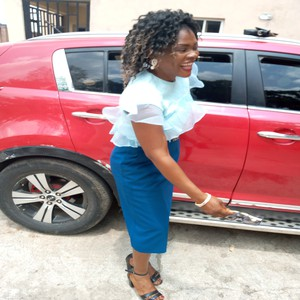Fulokoja_female_student: (115, 11, 200, 285)
